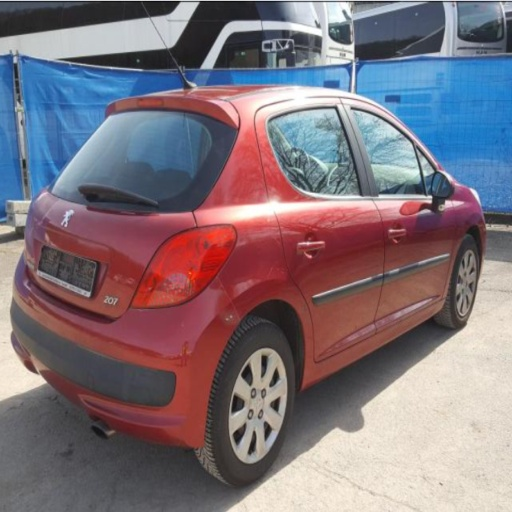scratch: (216, 310, 238, 327)
